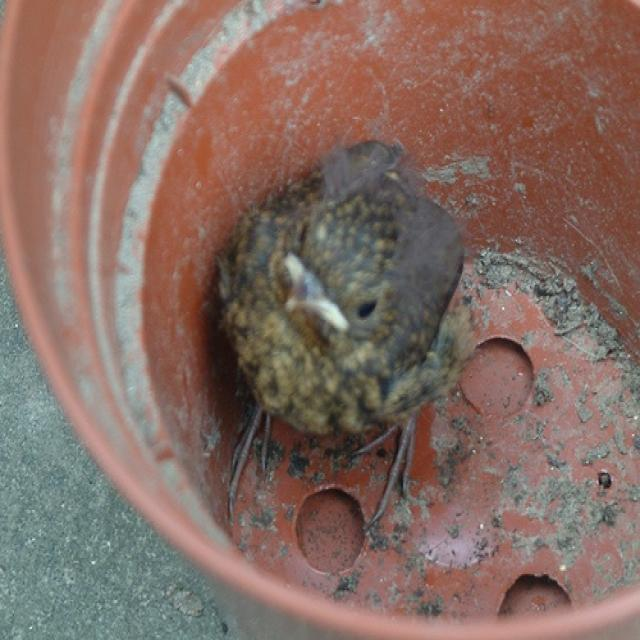bird: (204, 128, 485, 528)
